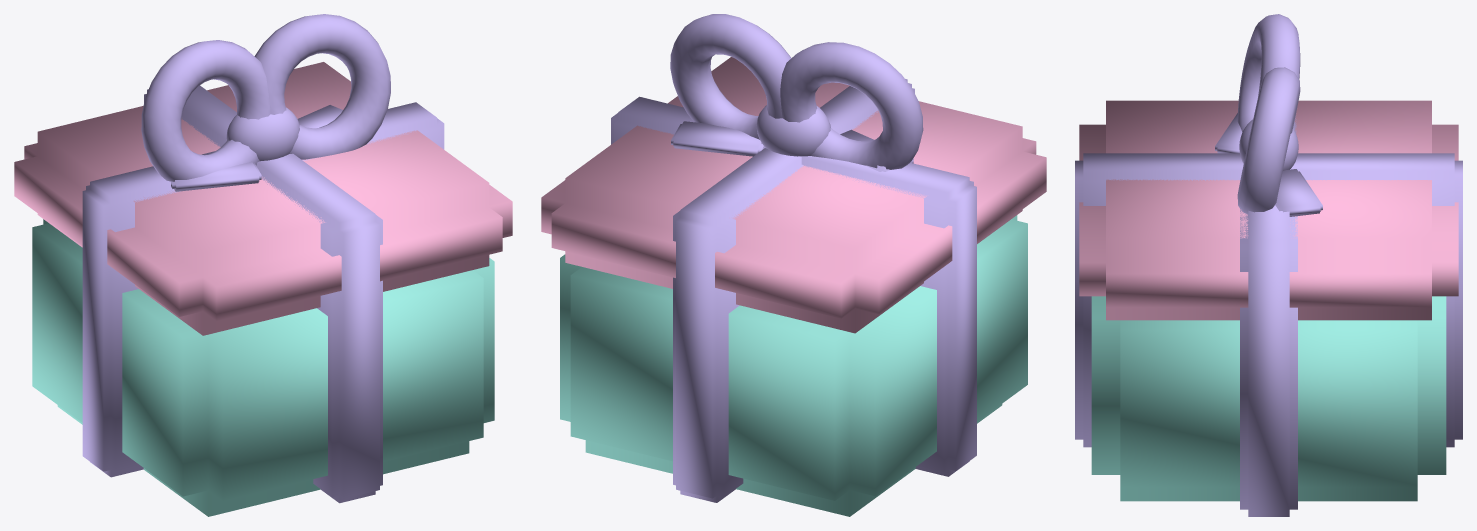
File: gift_box.glb
3 renders of one model, left to right at view 1: azimuth 30°, elevation 25°; view 2: azimuth 150°, elevation 25°; view 3: azimuth 270°, elevation 25°, orthographic. The views are drawn at different scales.
Visible parts, largest first — view 1: BoxBase, BoxLid, RibbonY, RibbonX, BowLoop_1.0, BowLoop_-1.0, BowKnot, BowTail_-1.0, BowTail_1.0; view 2: BoxBase, BoxLid, RibbonY, RibbonX, BowLoop_-1.0, BowLoop_1.0, BowKnot, BowTail_1.0; view 3: BoxLid, BoxBase, RibbonX, RibbonY, BowLoop_1.0, BowLoop_-1.0, BowTail_1.0, BowKnot, BowTail_-1.0.
Part boxes in pixels (x1,y1,x2,y2): BoxBase: [32, 219, 494, 516]; BoxLid: [14, 62, 512, 335]; RibbonY: [144, 85, 382, 503]; RibbonX: [82, 102, 444, 477]; BowLoop_1.0: [254, 14, 390, 159]; BowLoop_-1.0: [141, 40, 270, 181]; BowKnot: [226, 107, 299, 161]; BowTail_-1.0: [170, 161, 261, 191]; BowTail_1.0: [297, 105, 342, 128]; BoxBase: [560, 215, 1027, 516]; BoxLid: [541, 57, 1046, 333]; RibbonY: [673, 79, 914, 502]; RibbonX: [611, 96, 976, 476]; BowLoop_-1.0: [780, 42, 923, 169]; BowLoop_1.0: [670, 14, 791, 143]; BowKnot: [756, 105, 830, 156]; BowTail_1.0: [671, 121, 763, 156]; BoxLid: [1079, 100, 1458, 320]; BoxBase: [1091, 296, 1446, 501]; RibbonX: [1240, 113, 1297, 516]; RibbonY: [1075, 153, 1462, 447]; BowLoop_1.0: [1237, 67, 1300, 213]; BowLoop_-1.0: [1237, 14, 1300, 131]; BowTail_1.0: [1275, 169, 1322, 216]; BowKnot: [1239, 119, 1298, 170]; BowTail_-1.0: [1215, 113, 1242, 153].
Size of the model in its own units: 0.94 by 1.04 by 0.94.
